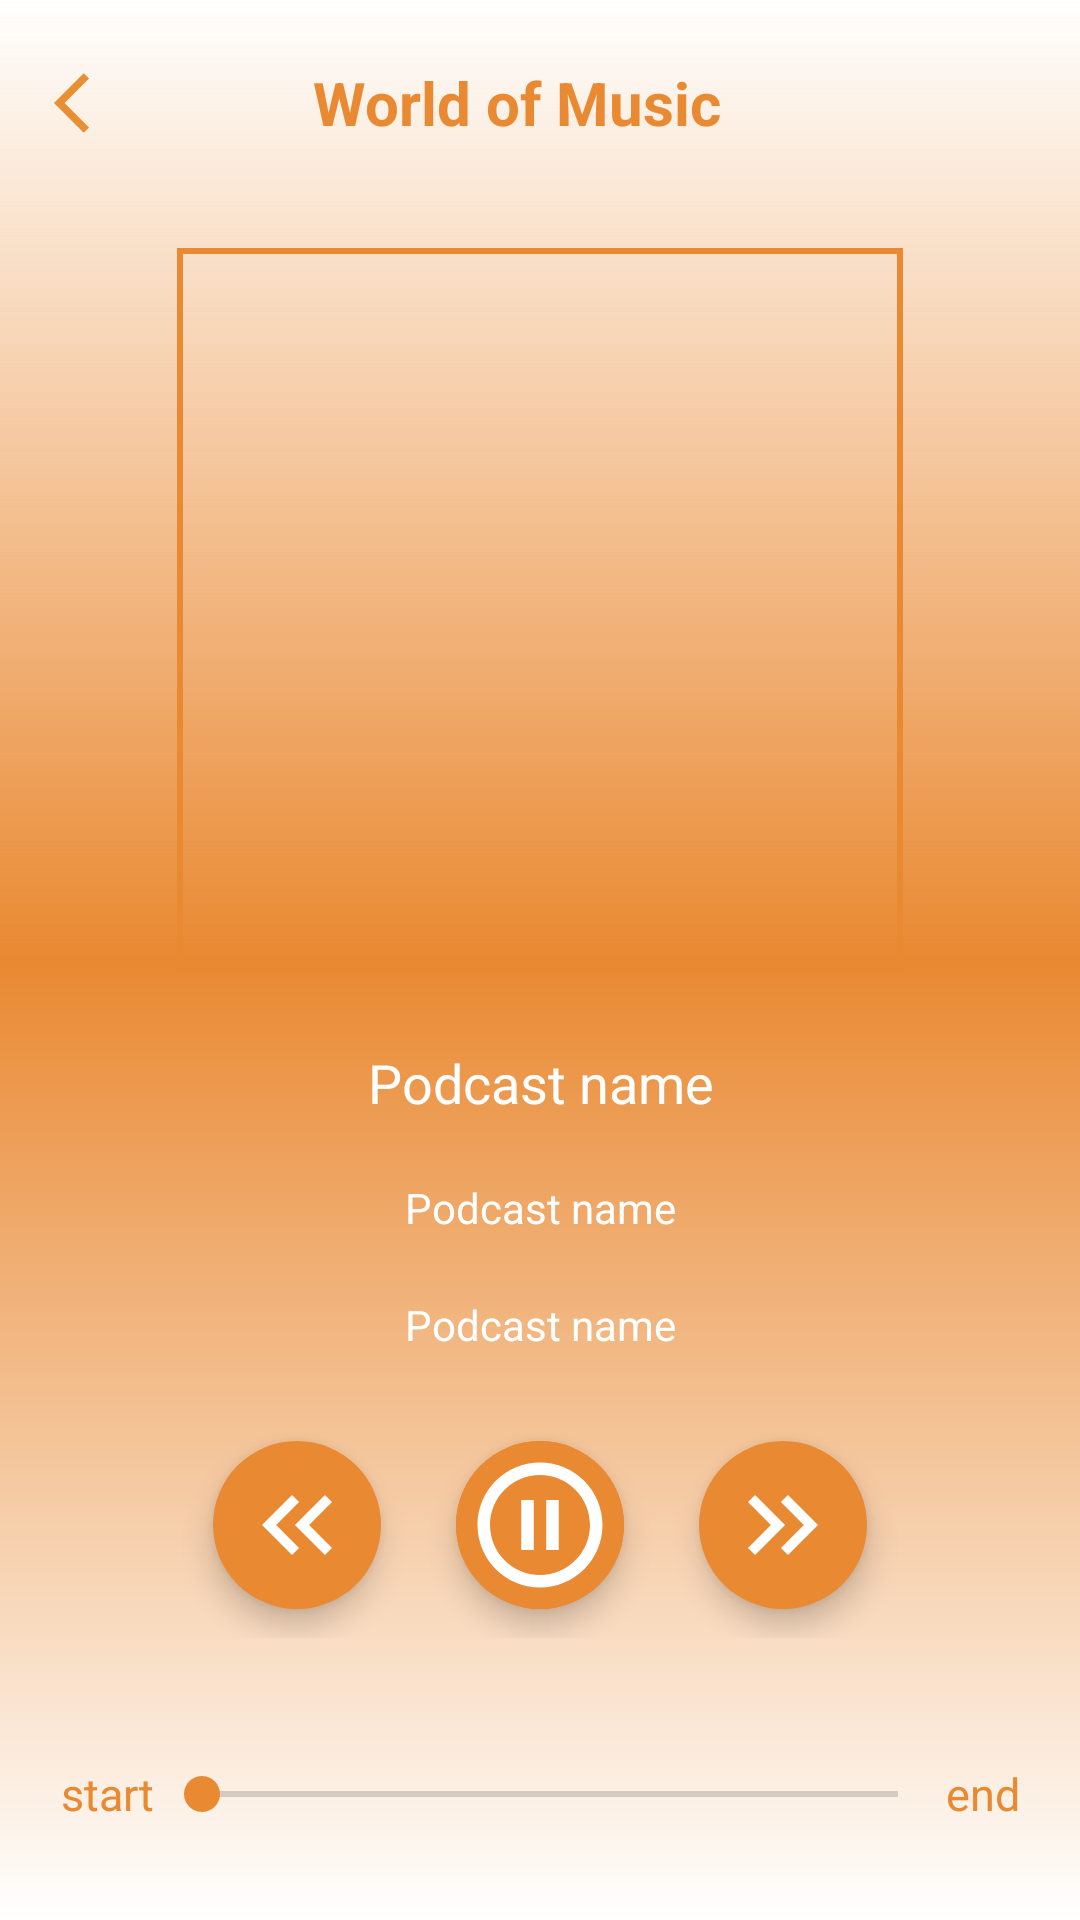

Icon bounding boxes for this 1080px x 1920px phone screenshot, format box(x1, y1, x2, y2):
keyboard double arrow left: box(213, 1441, 381, 1609)
keyboard double arrow right: box(699, 1441, 867, 1609)
pause circle: box(456, 1441, 624, 1609)
